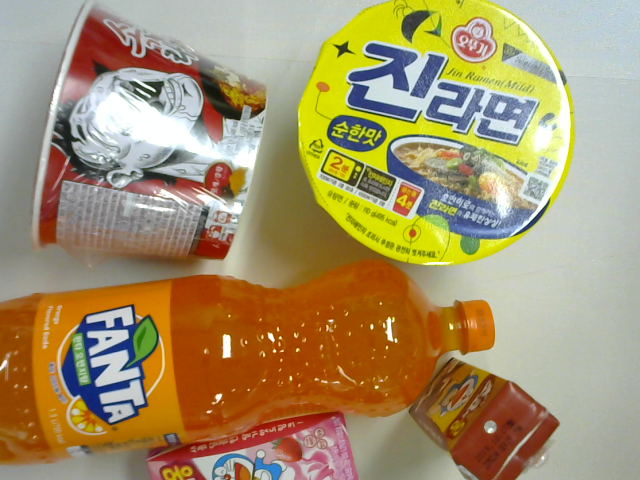Choco_E_Mong: (411, 359, 571, 480)
Hejangpul: (46, 4, 271, 268)
Hwanta_Orange_1.5L: (1, 261, 511, 434)
Jinlamyeon_Mild_Taste_Large_Cup: (292, 2, 577, 267)
Strawberry_E_Mong: (137, 410, 380, 480)
